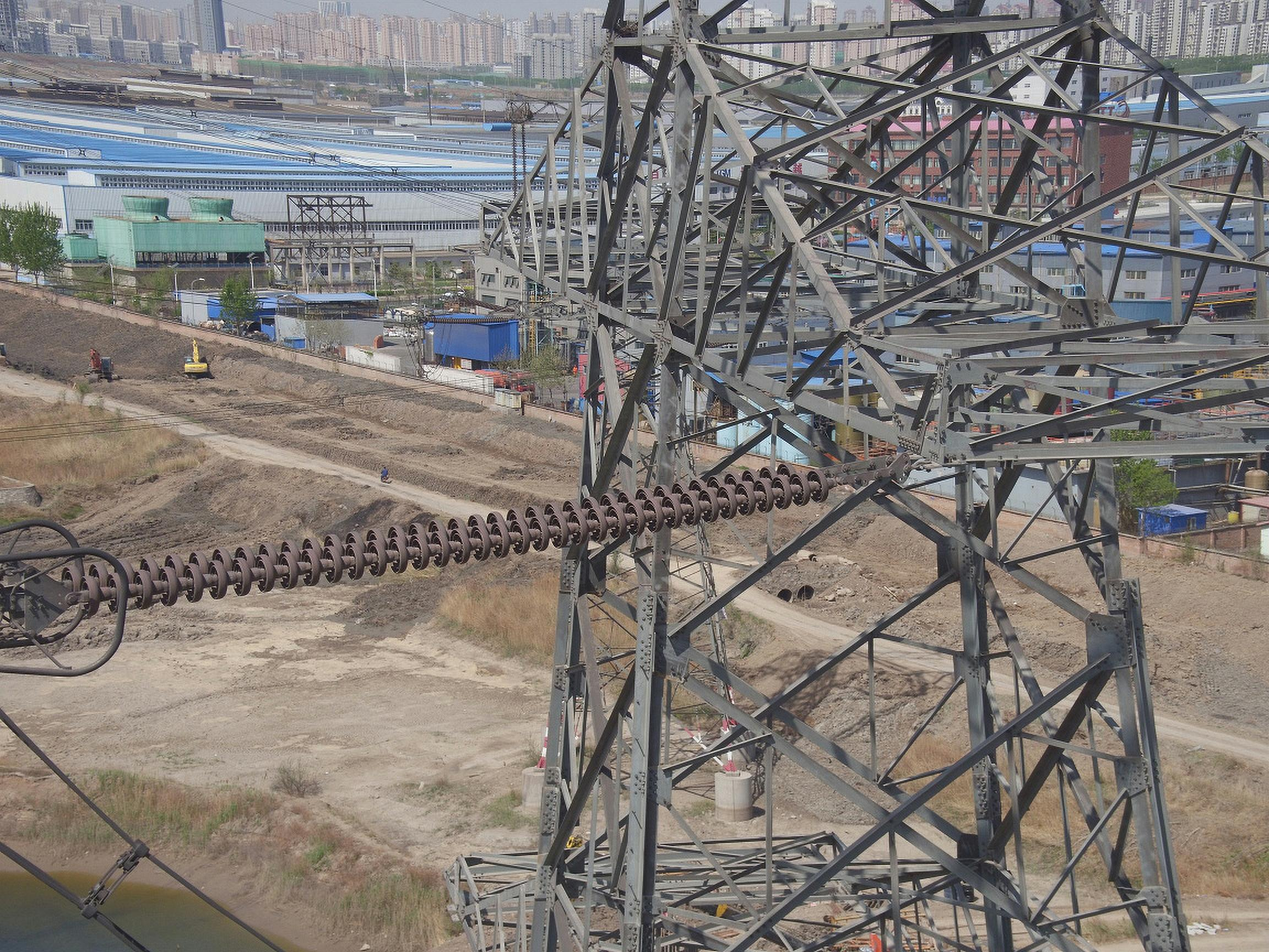insulator: (57, 457, 839, 620)
